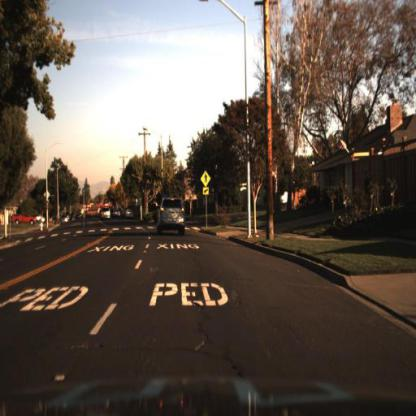car: (155, 197, 187, 237), (12, 211, 36, 227), (100, 205, 113, 223)
